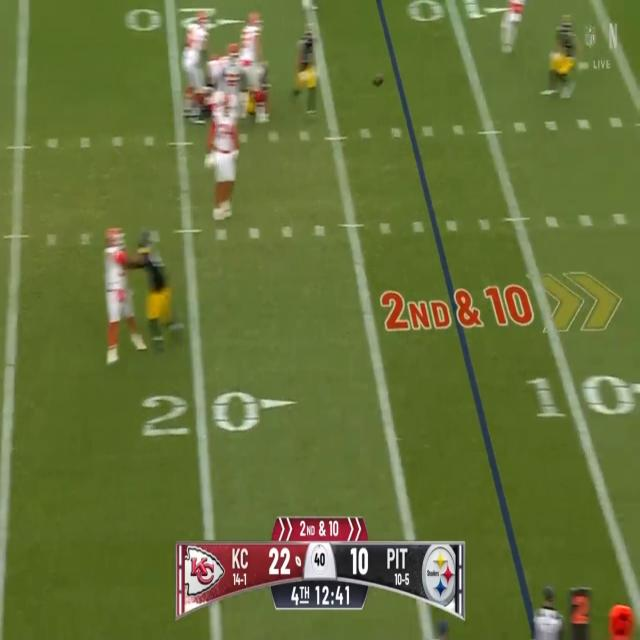Ball: (371, 74, 386, 88)
